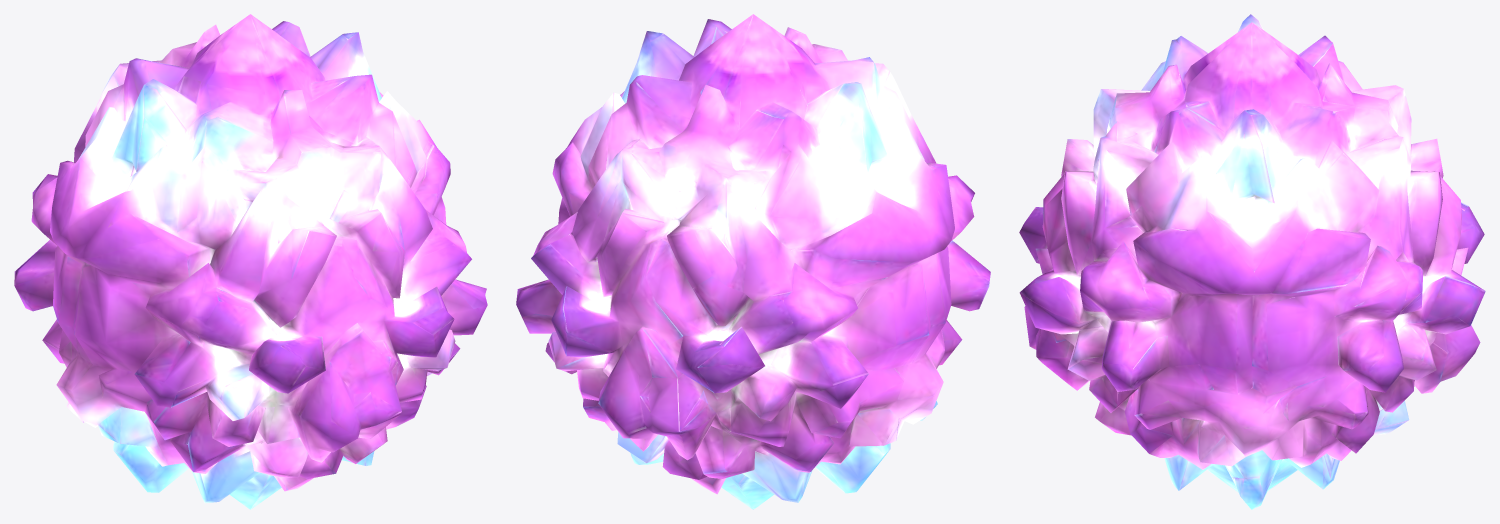
The model's file is jelly_crystal.glb.
The picture shows the model from 3 angles, left to right: view 1: azimuth 30°, elevation 25°; view 2: azimuth 150°, elevation 25°; view 3: azimuth 270°, elevation 25°; orthographic projection. The views are drawn at different scales.
Parts seen in each view (by area): view 1: Mesh_0; view 2: Mesh_0; view 3: Mesh_0.
Part boxes in pixels (x1=…): Mesh_0: x1=14, y1=14, x2=487, y2=509; Mesh_0: x1=516, y1=14, x2=990, y2=509; Mesh_0: x1=1019, y1=14, x2=1485, y2=509.
Size of the model in its own units: 1.52 by 1.92 by 1.69.
1 material, 1 textured.
